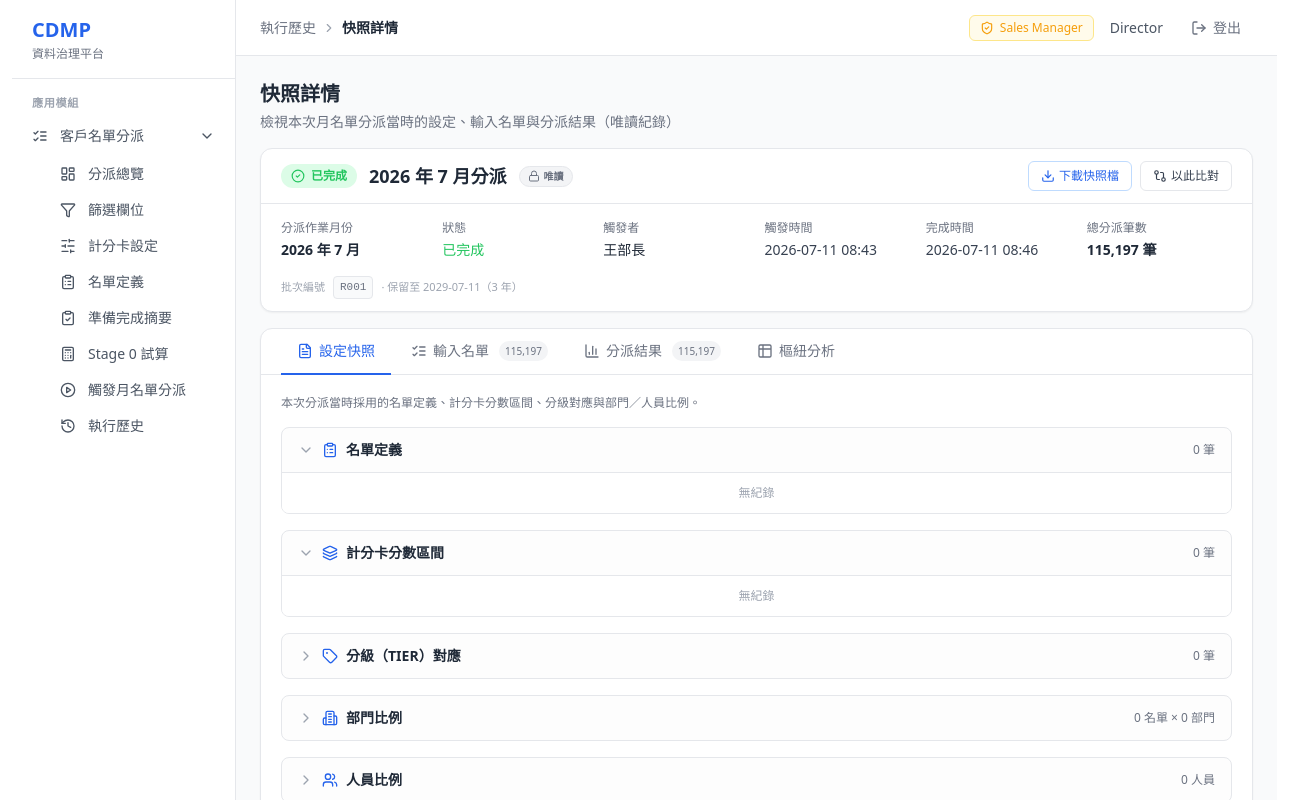
Scenario: SnapshotDetailPage (F066 v1.3) › 點輸入名單分頁 → 以摘要卡 + 各名單明細呈現
What coordinates should you click on to do the following:
click the button with test id "snapshot-tab-input_list"
I would click on:
 (480, 352)
Its box is [395, 328, 564, 374].
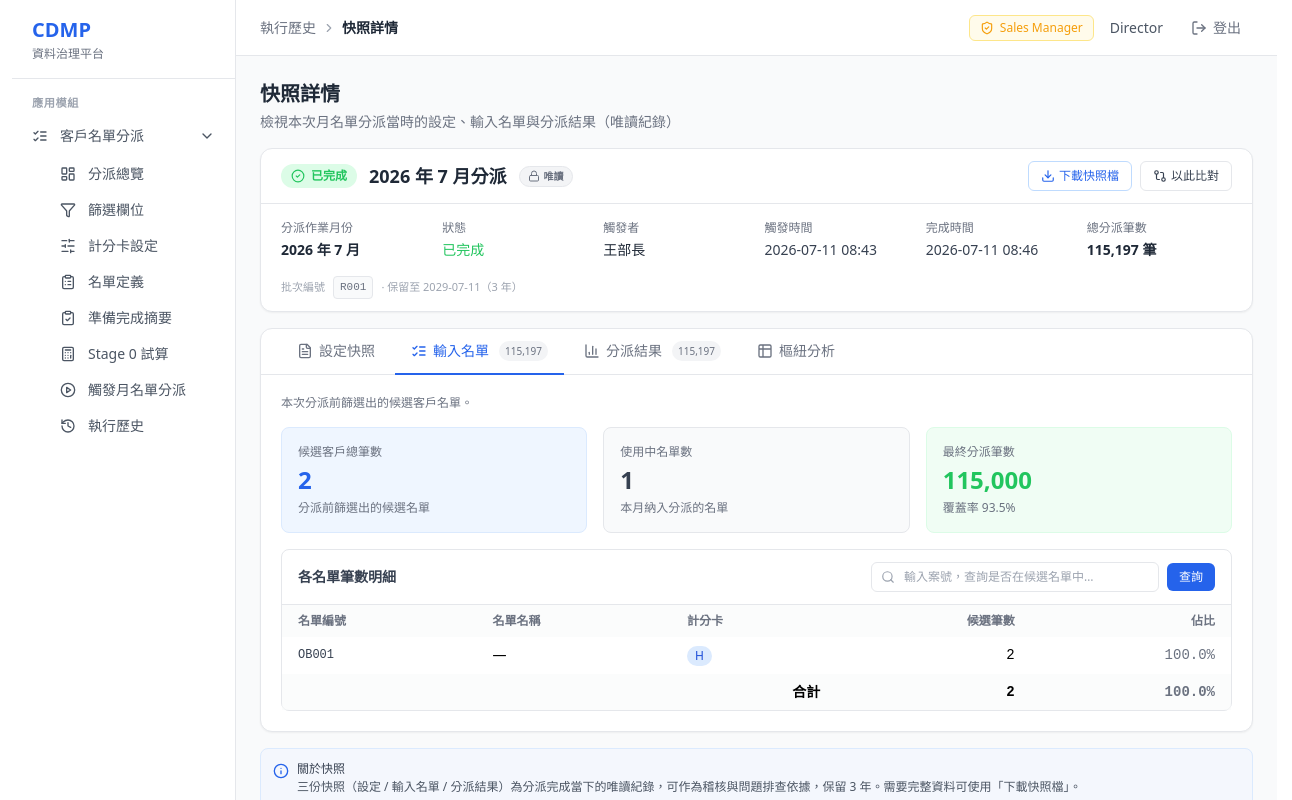
Result: the element with test id "snapshot-input-summary" is shown at [281, 426, 1232, 710]
Result: the text "候選客戶總筆數" is shown at [298, 442, 382, 460]
Result: the text "各名單筆數明細" is shown at [298, 566, 396, 586]
